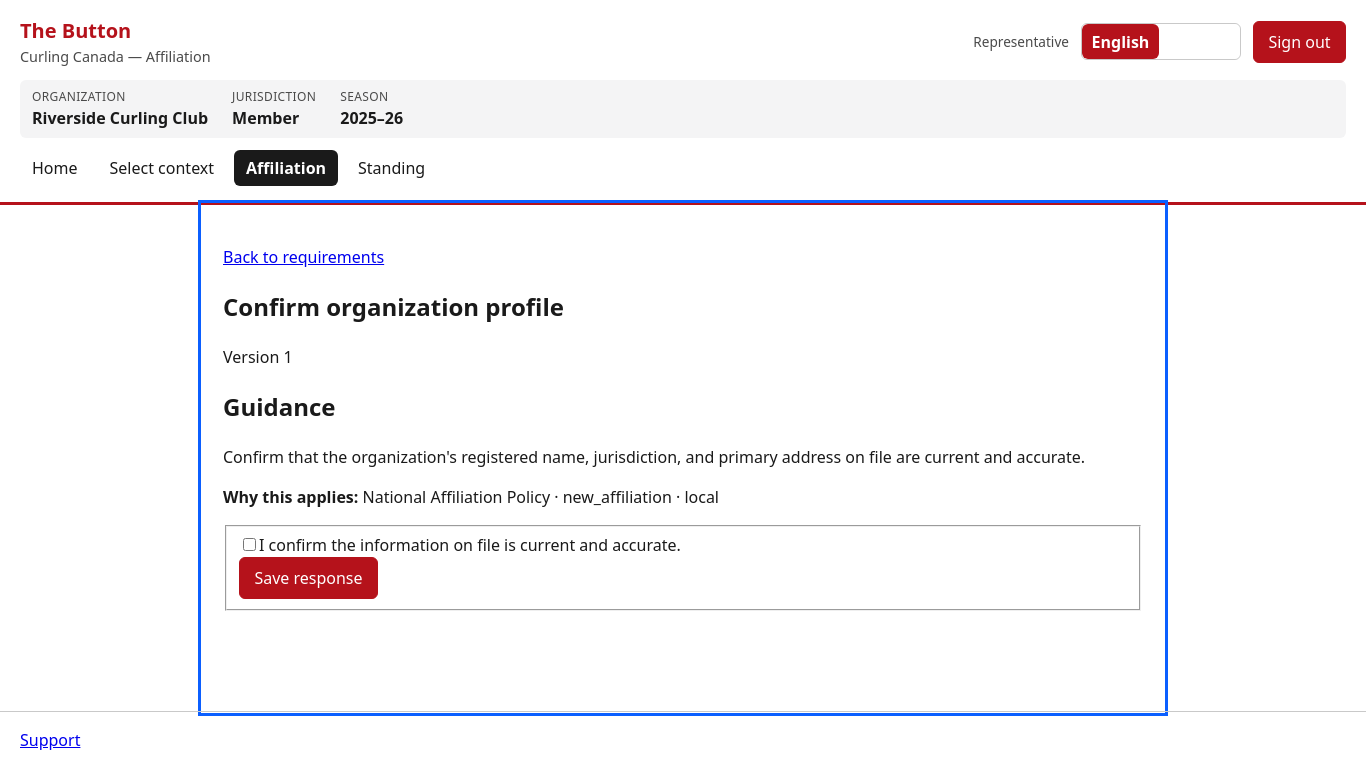
Test: Button affiliation requirements experience › recovers from a stale-version conflict by reloading the latest draft
The width and height of the screenshot is (1366, 768).
Expected: the heading "Confirm organization profile" is shown, [223, 290, 564, 323]
Click the checkbox at coordinates (250, 544), box [243, 538, 256, 551]
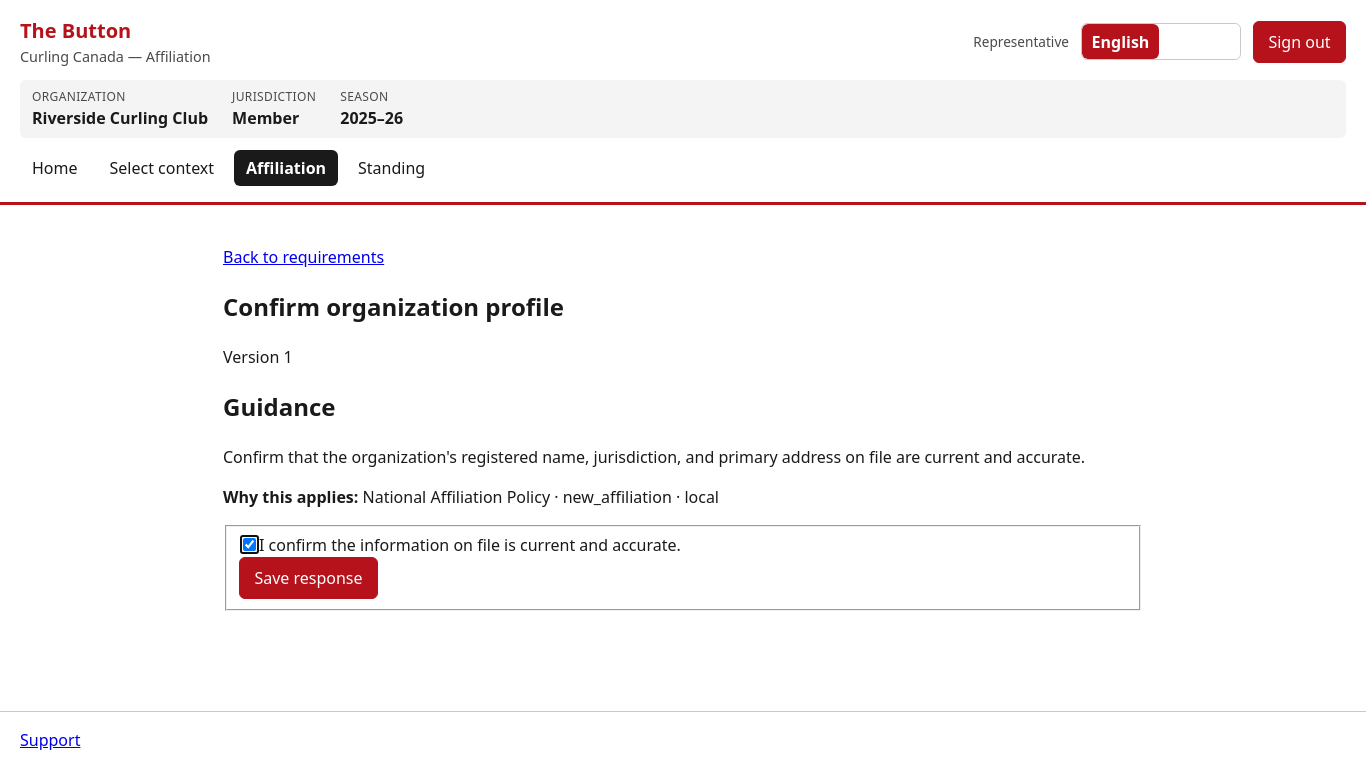
Click the button "Save response" at coordinates (308, 578), box [239, 557, 378, 599]
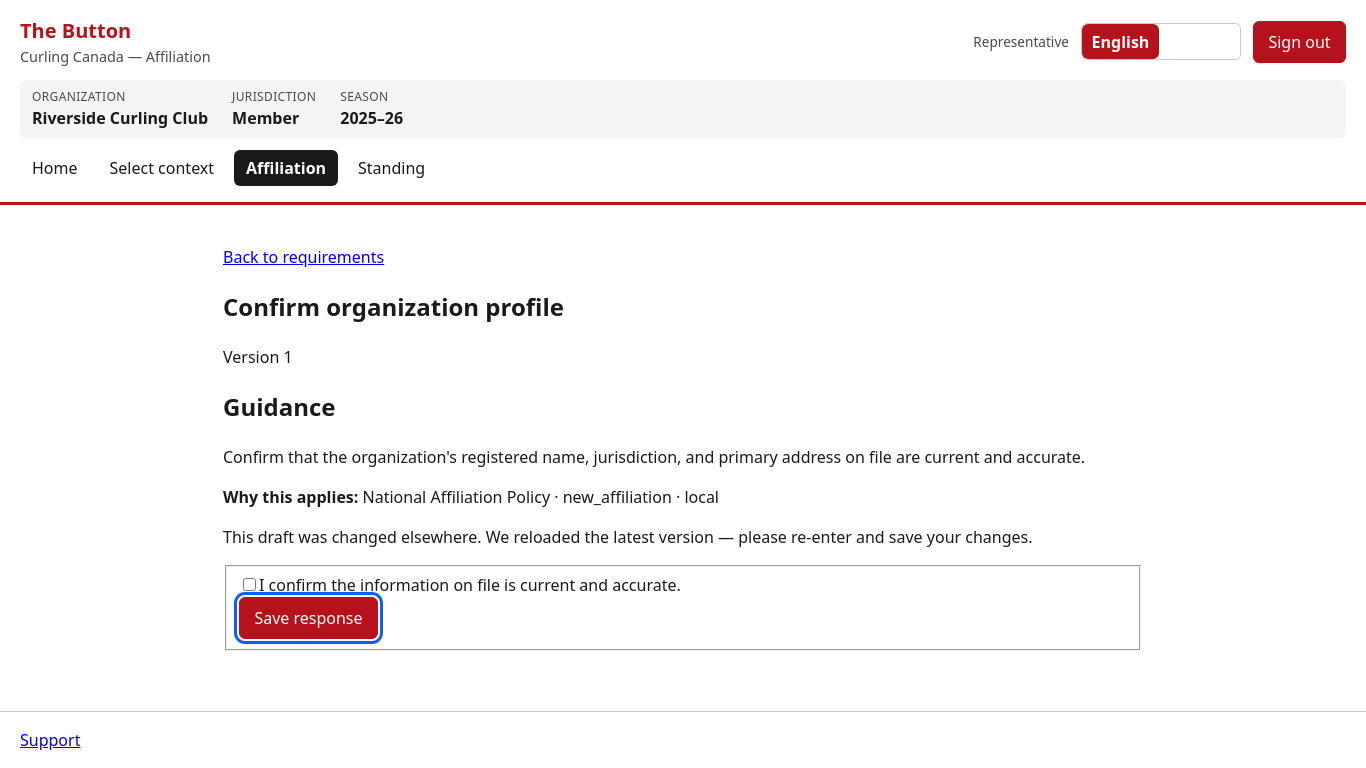
Now the text "This draft was changed elsewhere" is shown, box [223, 526, 1032, 548]
